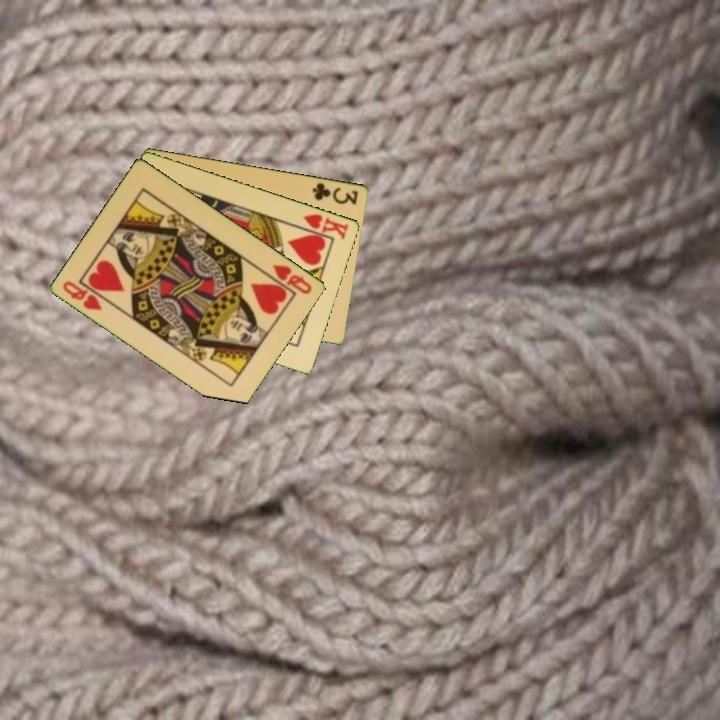3c: (309, 179, 361, 207)
Kh: (294, 210, 352, 242)
Qh: (269, 260, 315, 297), (60, 277, 105, 313)
